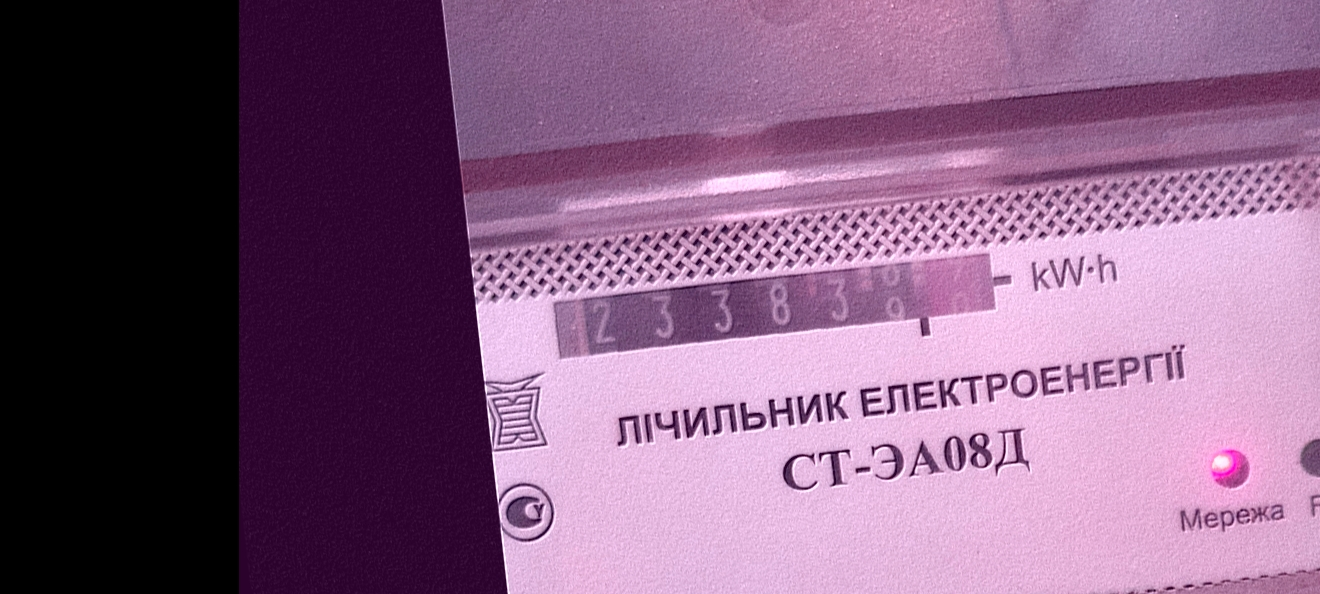0: (951, 289, 975, 318)
2: (591, 299, 620, 348)
3: (706, 285, 741, 337), (649, 291, 682, 342), (826, 275, 854, 323)
8: (766, 280, 798, 329), (881, 262, 906, 291)
9: (946, 253, 971, 285), (885, 293, 909, 325)
screen: (542, 241, 1022, 382)
